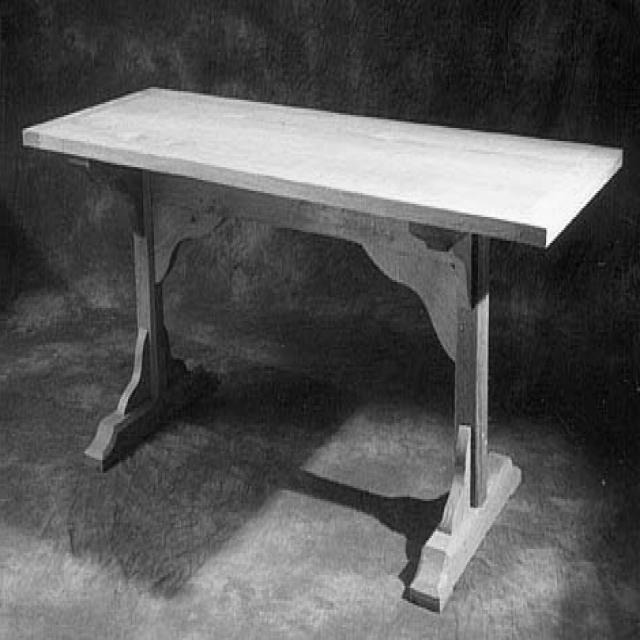table: (20, 84, 620, 610)
